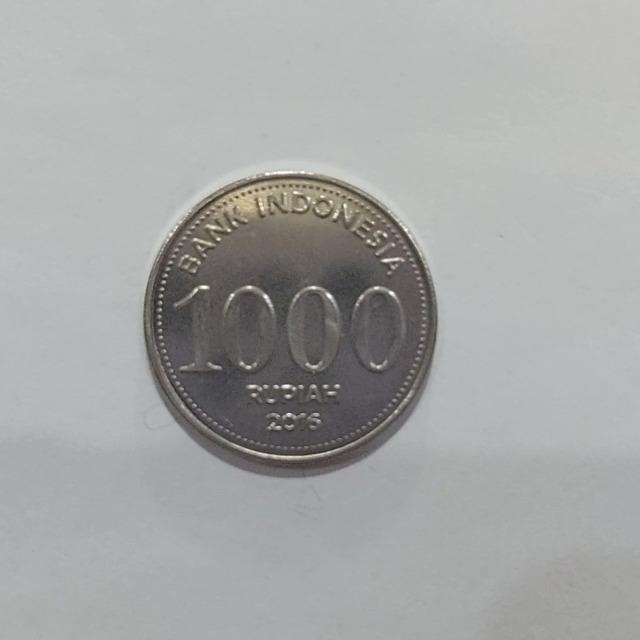Rp100: (141, 168, 438, 476)
